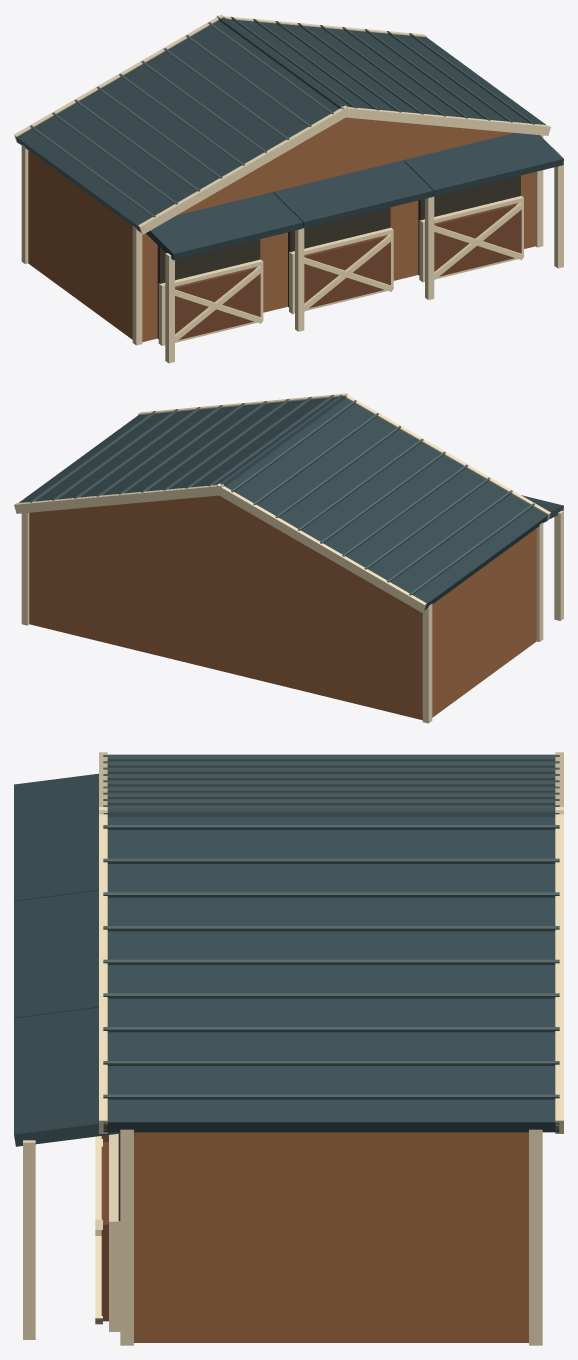
The model's file is horse_barn.glb.
3 renders of one model, top to bottom at view 1: azimuth 30°, elevation 25°; view 2: azimuth 150°, elevation 25°; view 3: azimuth 270°, elevation 25°, orthographic. The views are drawn at different scales.
Parts seen in each view (by area): view 1: horse_barn; view 2: horse_barn; view 3: horse_barn.
Part boxes in pixels (<box>): horse_barn: <box>14,14,563,363</box>; horse_barn: <box>14,392,563,723</box>; horse_barn: <box>14,752,563,1345</box>.
Size of the model in its own units: 10.24 by 4.68 by 6.46.
